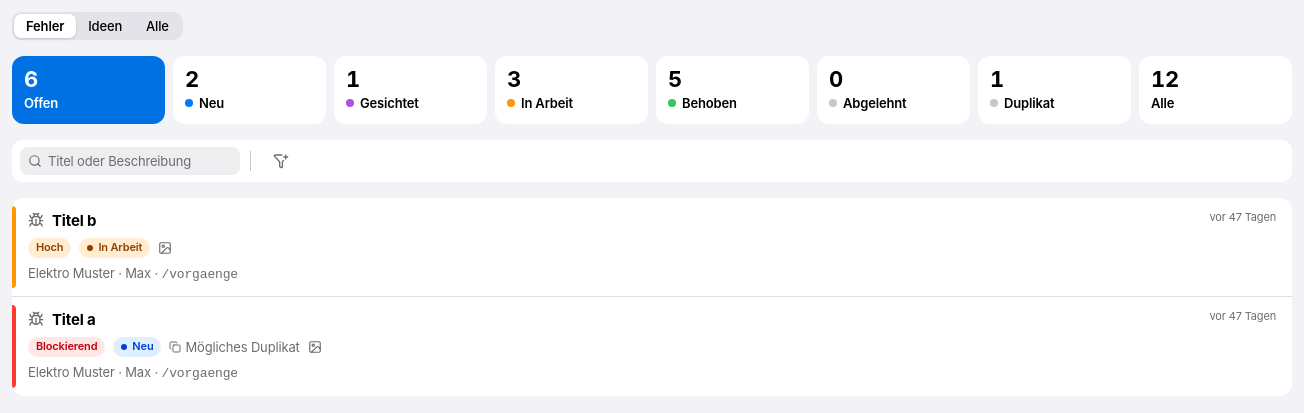
Test: FehlerberichtListe › zeigt Zähler und setzt beim Kachel-Klick den Status-Filter
Click the button "5 Behoben" at (732, 90), box [656,56,809,124]
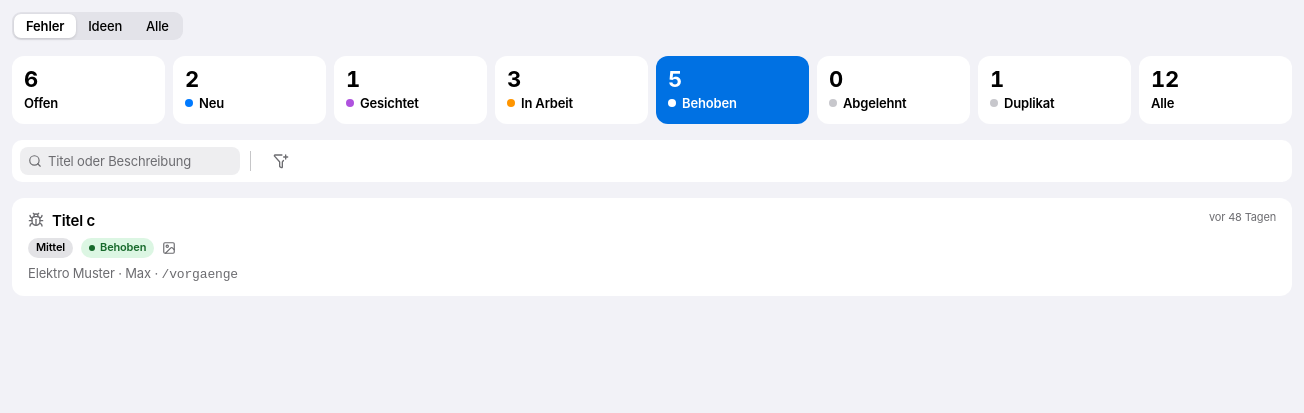
Check: the text "Titel c" is shown, box [52,210,95,232]
Check: the link "Titel a" is gone
Click the button "5 Behoben" at (732, 90), box [656,56,809,124]
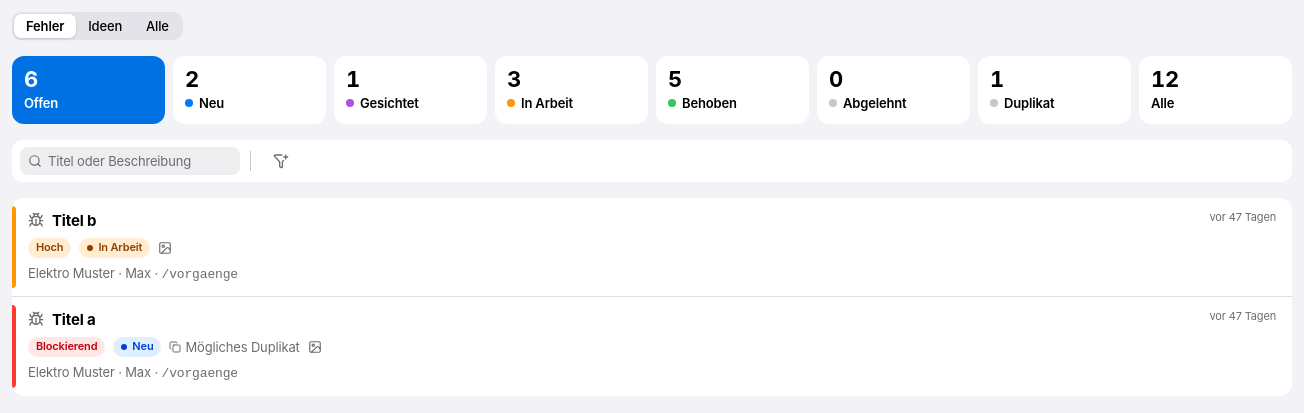
Check: the text "Titel a" is shown, box [52,309,96,331]
